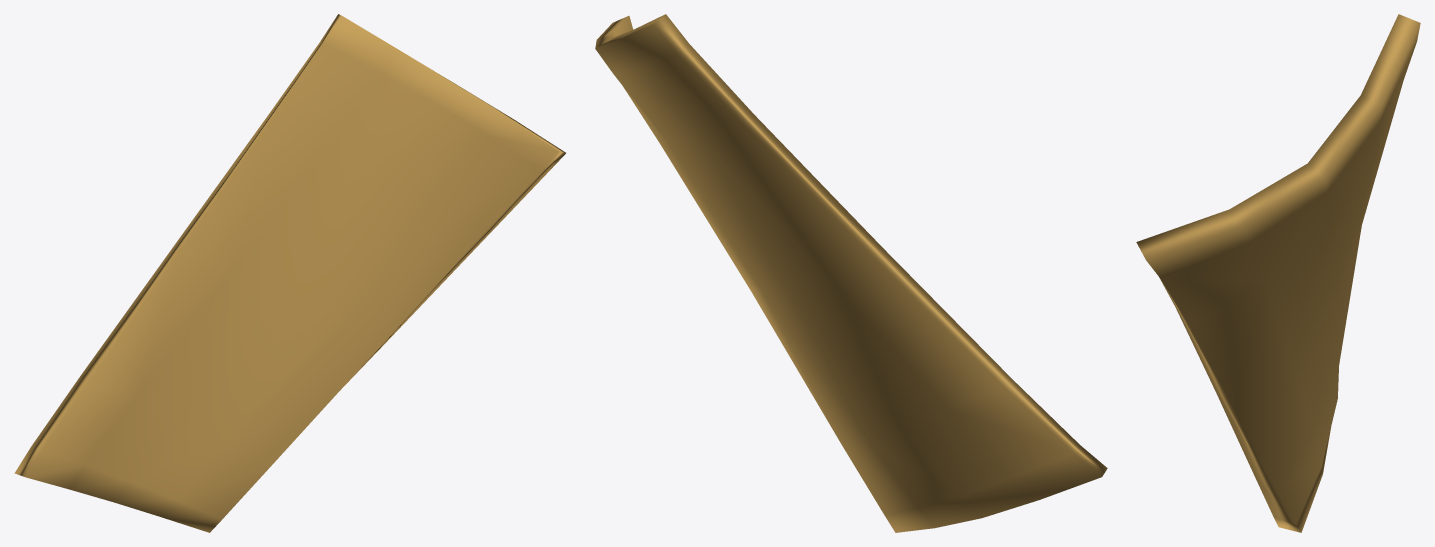
3 views of the same model, side by side, from view 1: azimuth 30°, elevation 25°; view 2: azimuth 150°, elevation 25°; view 3: azimuth 270°, elevation 25° (orthographic). The views are drawn at different scales.
Visible parts, largest first — view 1: 右侧跟骰足底韧带; view 2: 右侧跟骰足底韧带; view 3: 右侧跟骰足底韧带.
Part boxes in pixels (left/top/right/bottom): 右侧跟骰足底韧带: left=14, top=14, right=565, bottom=532; 右侧跟骰足底韧带: left=595, top=14, right=1107, bottom=532; 右侧跟骰足底韧带: left=1136, top=14, right=1420, bottom=532.
Bounding box in the file's own units: 0.0251 × 0.0216 × 0.00874.
